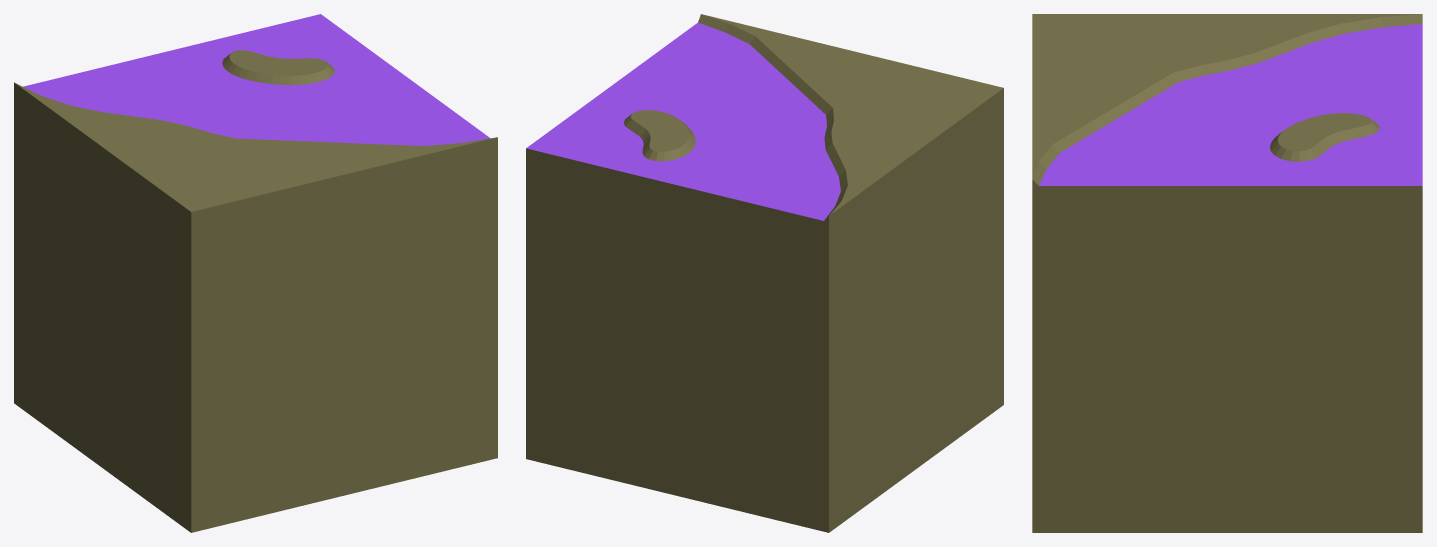
File: tile_toxic_4e_02.fbx
The picture shows the model from 3 angles, left to right: view 1: azimuth 30°, elevation 25°; view 2: azimuth 150°, elevation 25°; view 3: azimuth 270°, elevation 25°; orthographic projection. The views are drawn at different scales.
Visible parts, largest first — view 1: tile_toxic_4e_02; view 2: tile_toxic_4e_02; view 3: tile_toxic_4e_02.
Boxes of the visible parts, <box> form: tile_toxic_4e_02: <box>14,14,497,532</box>; tile_toxic_4e_02: <box>526,14,1003,532</box>; tile_toxic_4e_02: <box>1032,14,1422,532</box>.
Bounding box in the file's own units: 100 × 100 × 100.
